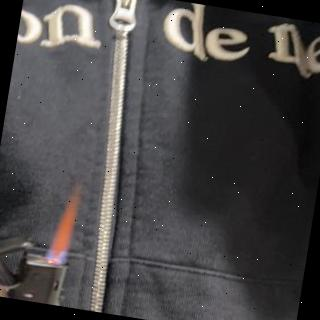fire: (44, 176, 82, 267)
